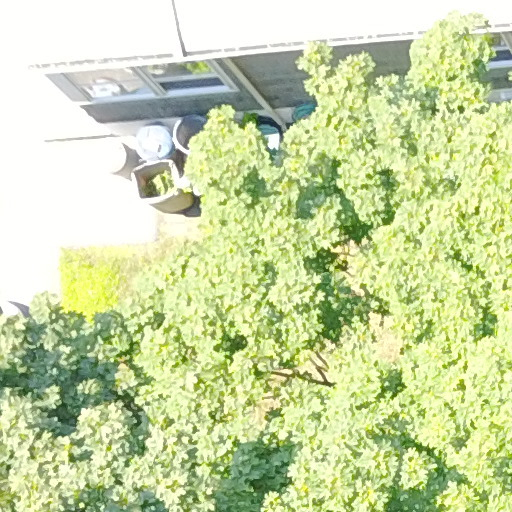container: (127, 156, 198, 214), (166, 109, 214, 157), (125, 119, 179, 161)
hose: (292, 97, 321, 128)
